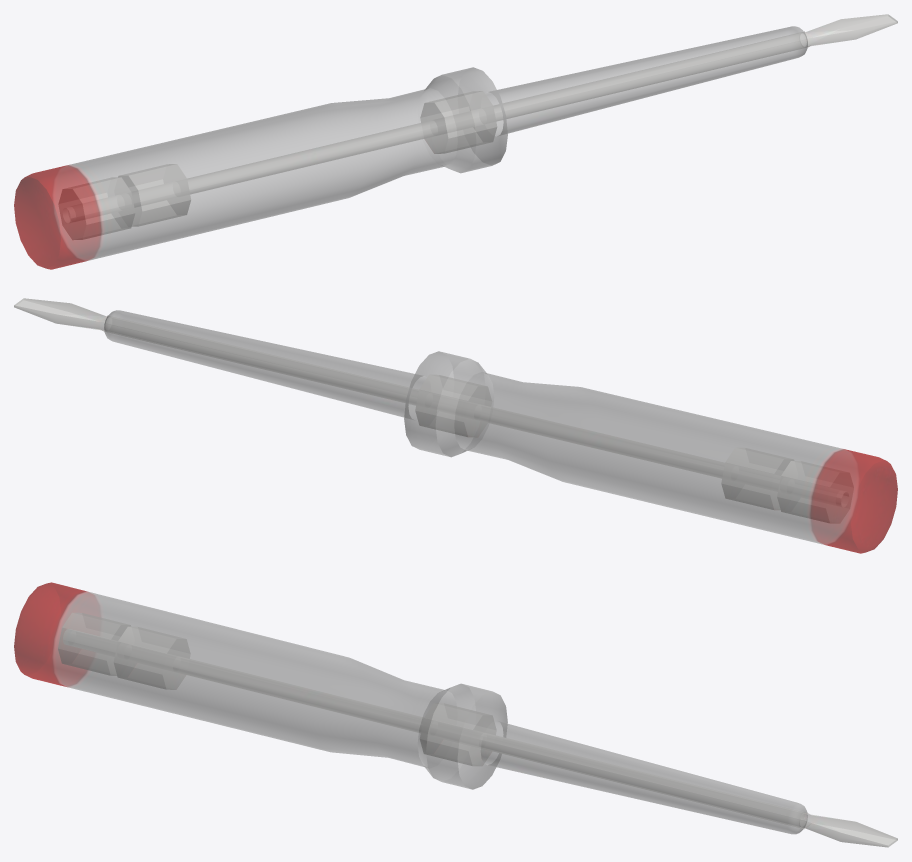
File: tool_turn_screw_indicator.glb
3 renders of one model, top to bottom at view 1: azimuth 30°, elevation 25°; view 2: azimuth 150°, elevation 25°; view 3: azimuth 330°, elevation 25°, orthographic.
Parts seen in each view (by area): view 1: tool_turn_screw_indicator_07; view 2: tool_turn_screw_indicator_07; view 3: tool_turn_screw_indicator_07.
Boxes of the visible parts, bbox=[...] form: tool_turn_screw_indicator_07: bbox=[14, 14, 897, 269]; tool_turn_screw_indicator_07: bbox=[14, 298, 897, 553]; tool_turn_screw_indicator_07: bbox=[14, 582, 897, 847].
Size of the model in its own units: 0.1255 by 0.013 by 0.0128.
Materials: 1 (1 with a texture image).
